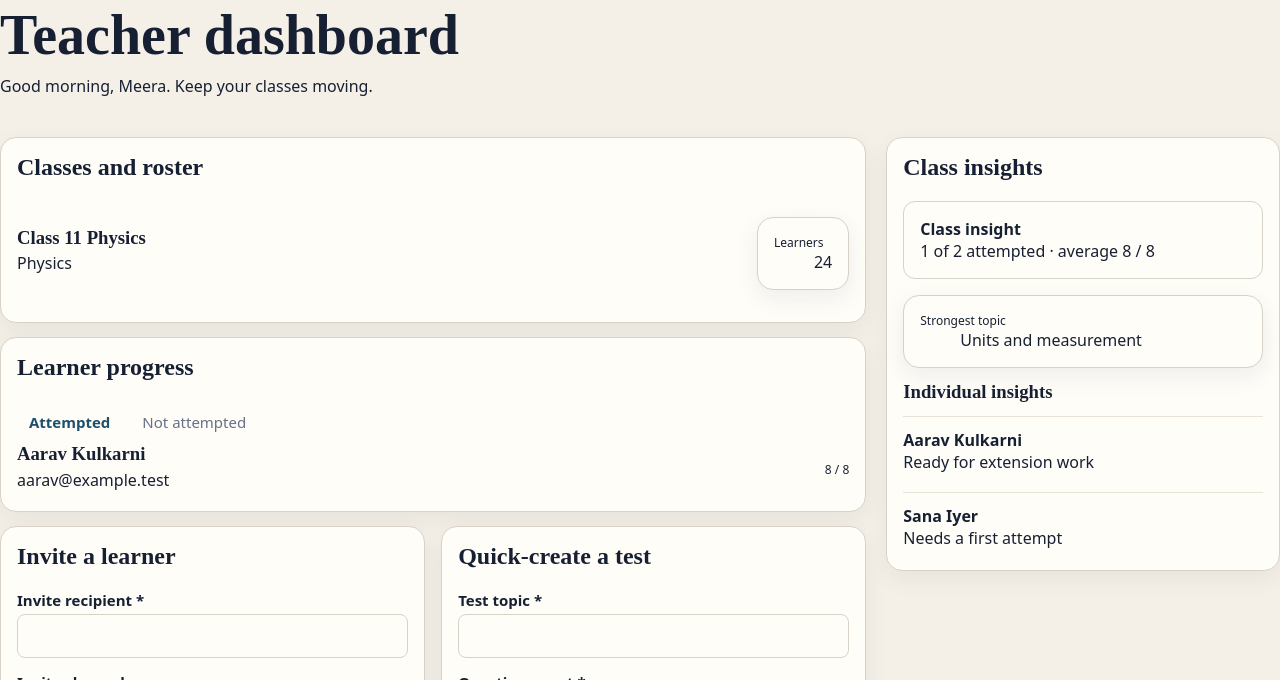
Test: TeacherDashboard › creates an invitation through a preview-only email or WhatsApp form
Type "sana@example.test" into the field labelled "Invite recipient" at (213, 636), box [17,614,408,658]
(page scrolled)
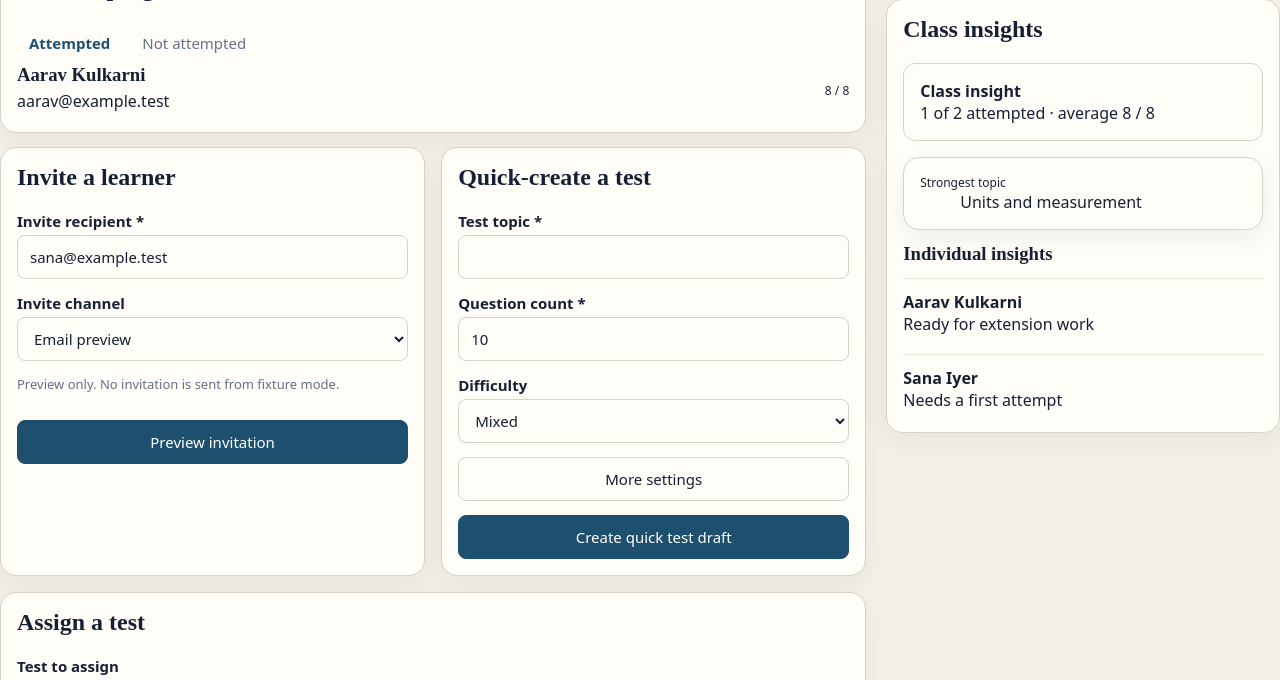
Select "Email preview" in the dropdown labelled "Invite channel" at (213, 339), box [17,317,408,361]
Click the button "Preview invitation" at (213, 442), box [17,420,408,464]
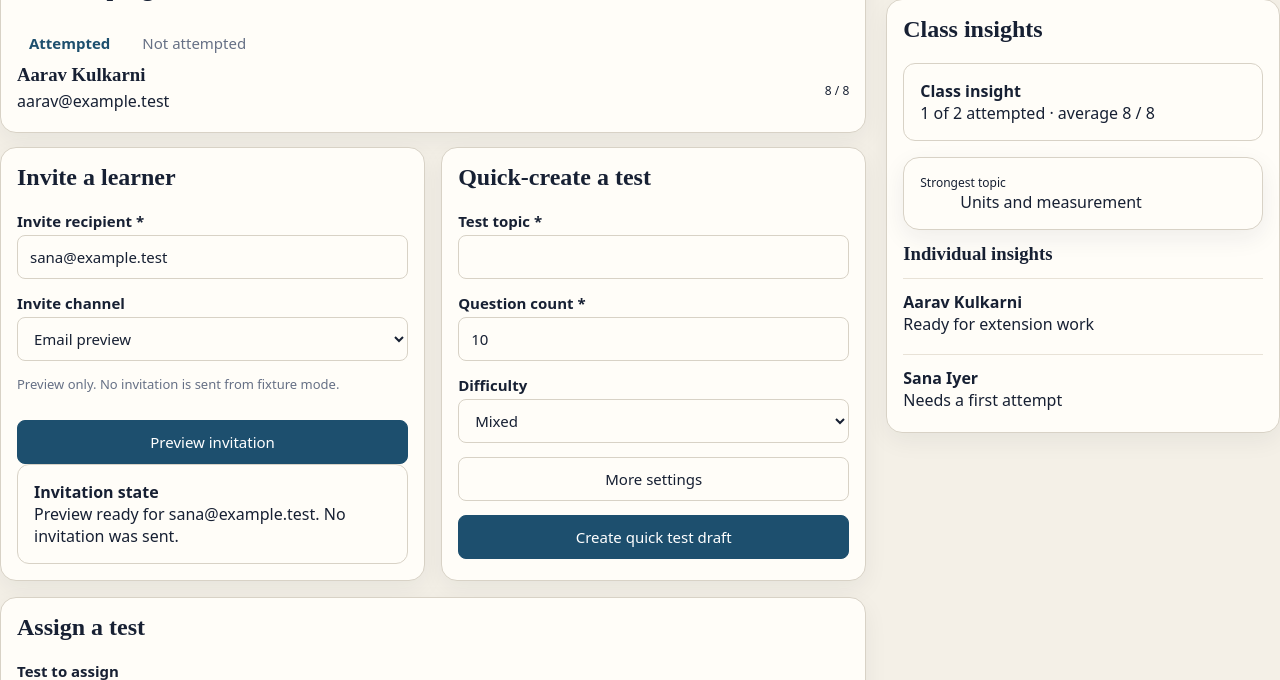
Result: the message "Invitation state Preview ready for sana@example.test. No invitation was sent." is shown at [17,464,408,564]
Result: the text "No invitation was sent." is shown at [34,503,346,547]
